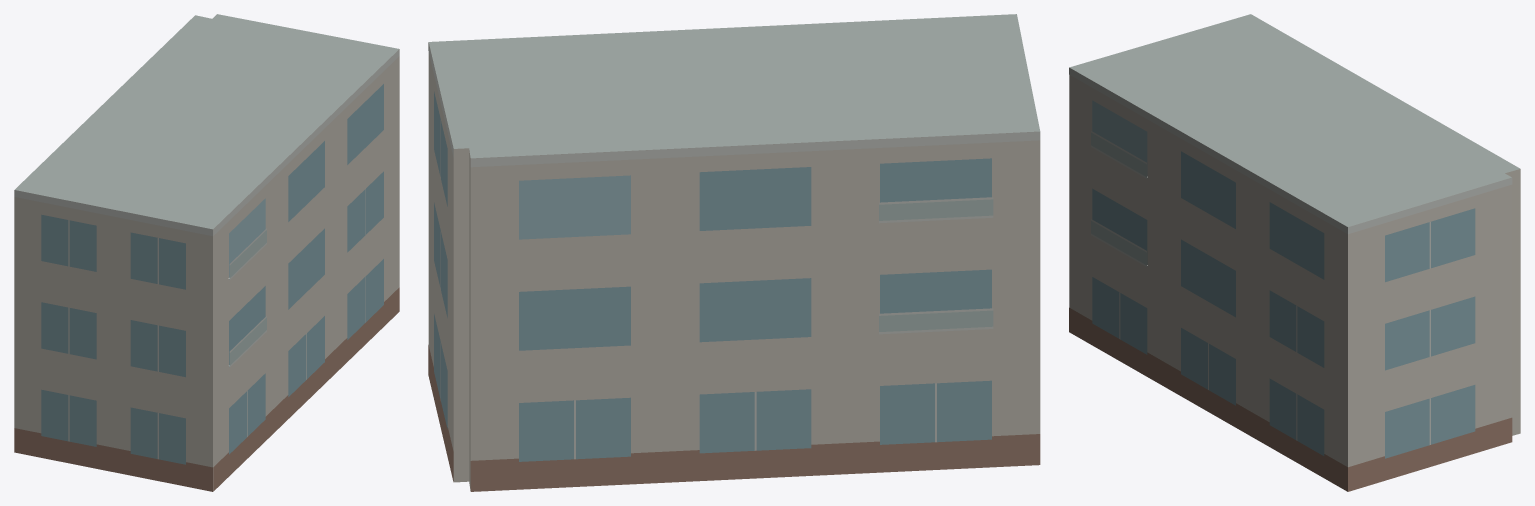
The model's file is survey-upis-32666553.glb.
3 renders of one model, left to right at view 1: azimuth 30°, elevation 25°; view 2: azimuth 150°, elevation 25°; view 3: azimuth 270°, elevation 25°, orthographic. The views are drawn at different scales.
Visible parts, largest first — view 1: survey-upis-32666553.tmp; view 2: survey-upis-32666553.tmp; view 3: survey-upis-32666553.tmp.
Boxes of the visible parts, x1,y1,x2,y2 form: survey-upis-32666553.tmp: (14, 14, 399, 491); survey-upis-32666553.tmp: (428, 14, 1040, 491); survey-upis-32666553.tmp: (1069, 14, 1520, 491).
Size of the model in its own units: 15.82 by 9.15 by 14.16.
